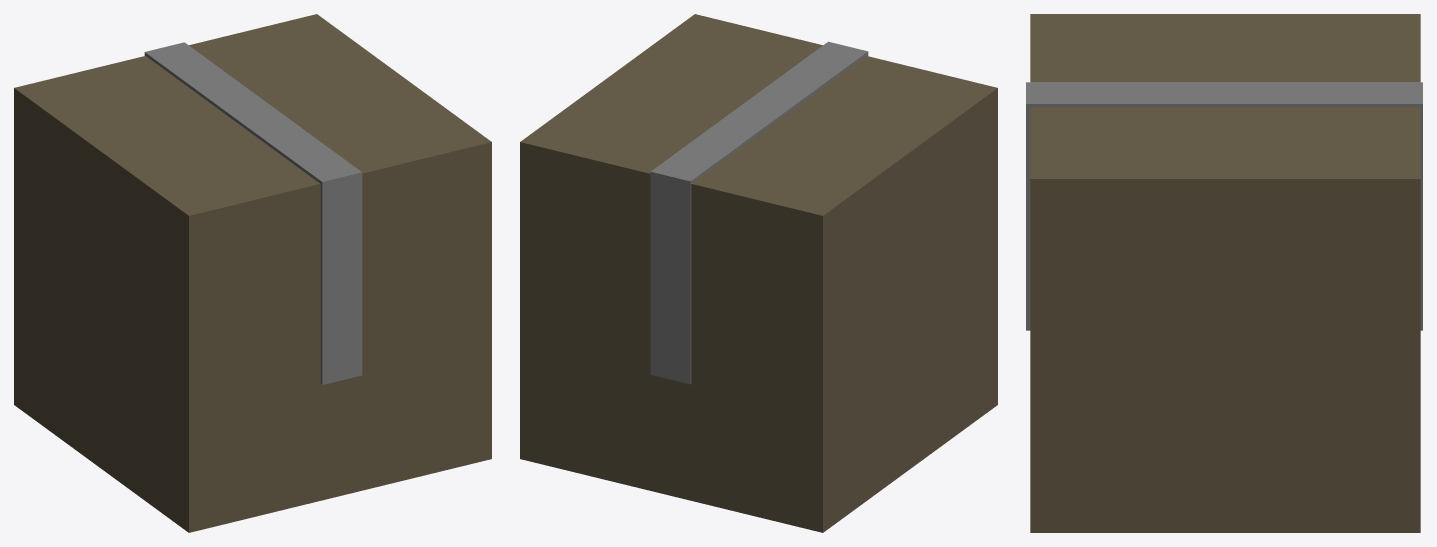
File: lecardboardbox fbx.fbx
3 renders of one model, left to right at view 1: azimuth 30°, elevation 25°; view 2: azimuth 150°, elevation 25°; view 3: azimuth 270°, elevation 25°, orthographic. The views are drawn at different scales.
Parts seen in each view (by area): view 1: pCube1, pCube5; view 2: pCube1, pCube5; view 3: pCube1, pCube5.
Part boxes in pixels (x1,y1,x2,y2): pCube1: (14, 14, 491, 532); pCube5: (144, 42, 362, 384); pCube1: (520, 14, 997, 532); pCube5: (650, 41, 868, 384); pCube1: (1030, 14, 1420, 532); pCube5: (1026, 82, 1422, 330).
Size of the model in its own units: 1 by 1.01 by 1.02.
